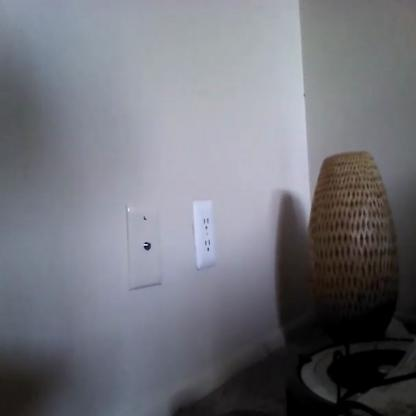OUTLET: (192, 200, 216, 268)
